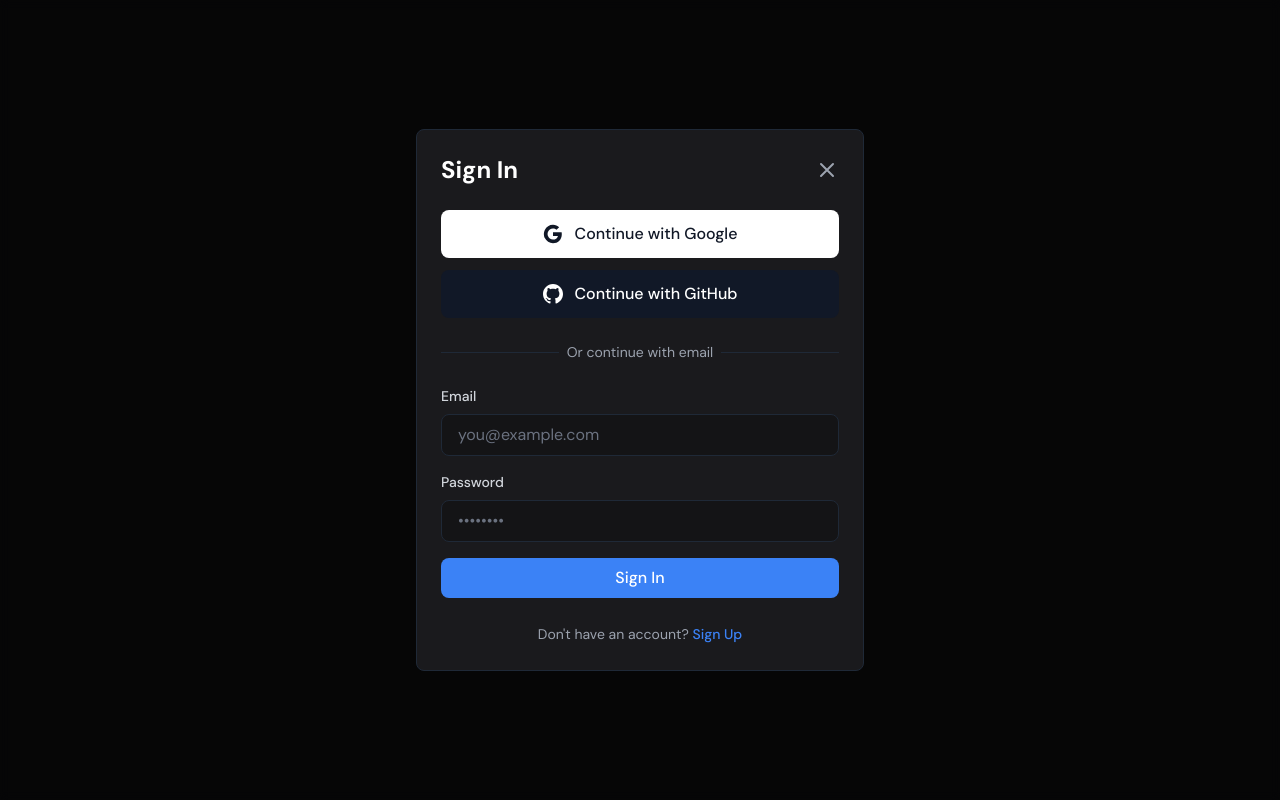
Test: AuthModal › OAuth › disables OAuth buttons while loading
Click the button "Continue with Google".
click(640, 234)  # box 441,210 -> 839,258
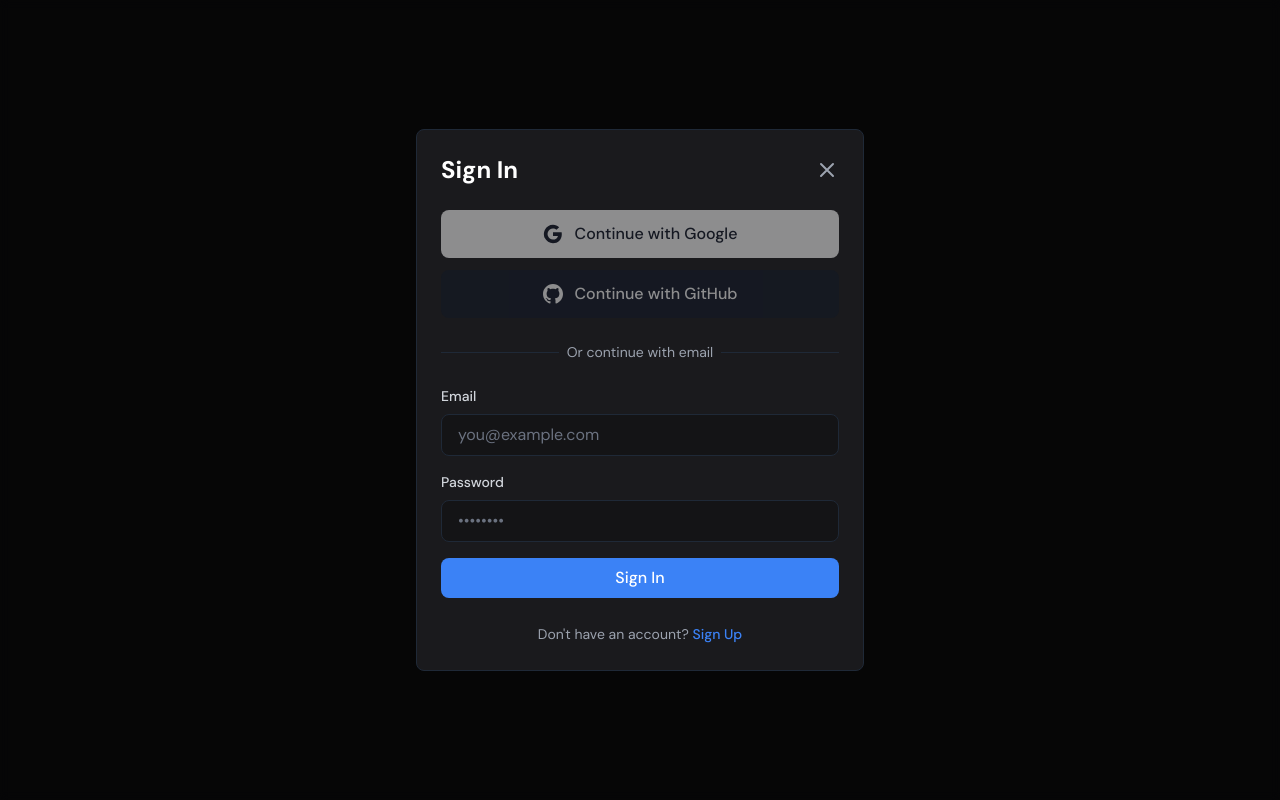
Expected: the button "Continue with Google" is disabled, 441,210 -> 839,258
Expected: the button "Continue with GitHub" is disabled, 441,270 -> 839,318
